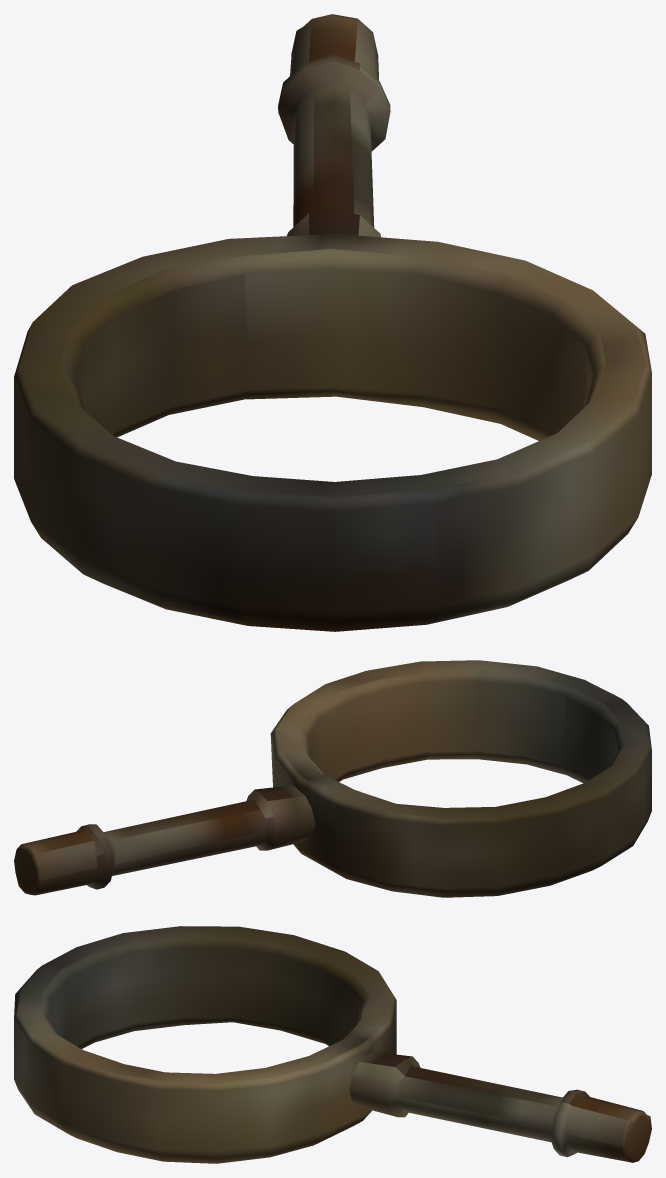
Rendered from OparetionRoom_AI_Prop.027.fbx.
The picture shows the model from 3 angles, top to bottom: view 1: azimuth 30°, elevation 25°; view 2: azimuth 150°, elevation 25°; view 3: azimuth 270°, elevation 25°; orthographic projection. The views are drawn at different scales.
Parts seen in each view (by area): view 1: OparetionRoom_AI_Prop.027; view 2: OparetionRoom_AI_Prop.027; view 3: OparetionRoom_AI_Prop.027.
Part boxes in pixels (box(x1,y1,x2,y2)): OparetionRoom_AI_Prop.027: box(14, 14, 651, 631); OparetionRoom_AI_Prop.027: box(14, 660, 651, 897); OparetionRoom_AI_Prop.027: box(14, 926, 651, 1163).
Bounding box in the file's own units: 38.78 × 8.4 × 53.46.
